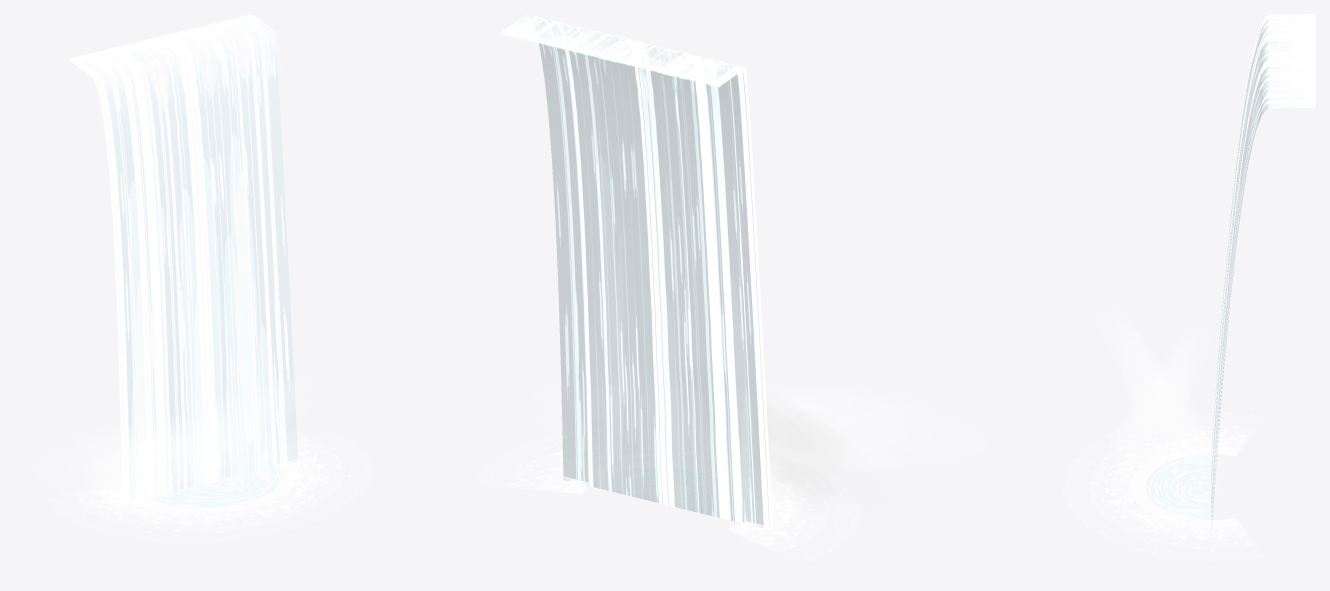
The picture shows the model from 3 angles, left to right: view 1: azimuth 30°, elevation 25°; view 2: azimuth 150°, elevation 25°; view 3: azimuth 270°, elevation 25°; orthographic projection. The views are drawn at different scales.
Visible parts, largest first — view 1: Mesh_falls_sheet, Mesh_falls_mist, Mesh_falls_foam, Mesh_falls_lip; view 2: Mesh_falls_sheet, Mesh_falls_mist, Mesh_falls_foam, Mesh_falls_lip; view 3: Mesh_falls_foam, Mesh_falls_sheet, Mesh_falls_mist, Mesh_falls_lip.
Boxes of the visible parts, x1,y1,x2,y2 form: Mesh_falls_sheet: (69,19,297,507); Mesh_falls_mist: (67,382,300,517); Mesh_falls_foam: (48,429,370,541); Mesh_falls_lip: (69,14,277,112); Mesh_falls_sheet: (500,15,772,530); Mesh_falls_mist: (581,371,933,504); Mesh_falls_foam: (478,430,858,562); Mesh_falls_lip: (500,14,747,96); Mesh_falls_foam: (1063,412,1264,560); Mesh_falls_sheet: (1147,14,1315,529); Mesh_falls_mist: (1112,314,1215,473); Mesh_falls_lip: (1252,14,1315,139).
Bounding box in the file's own units: 3.4 × 3.36 × 1.98.
Materials: 4 (4 with a texture image).
